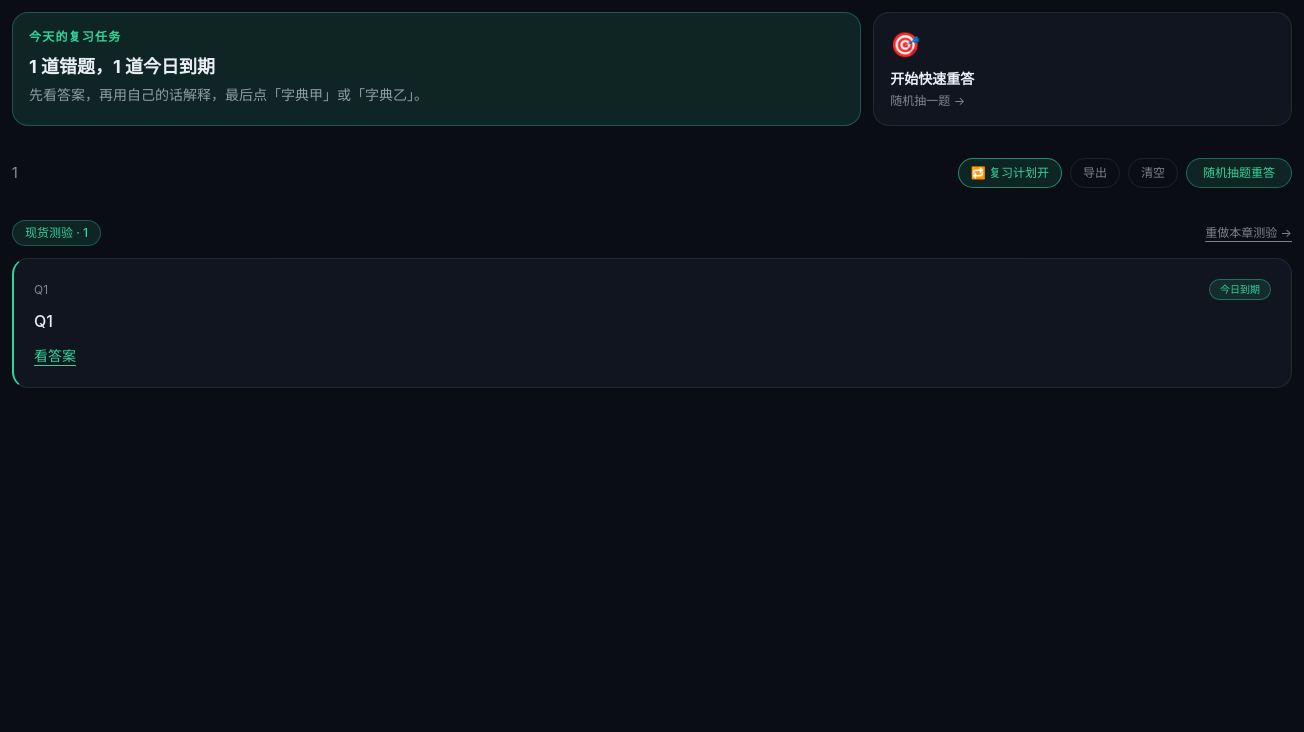
Scenario: ReviewClient 复习应答（R5.5/R5.8） › 两个按钮的字来自字典，不是组件里写死的
Click the button "看答案".
click(55, 356)  # box [34,346,76,366]
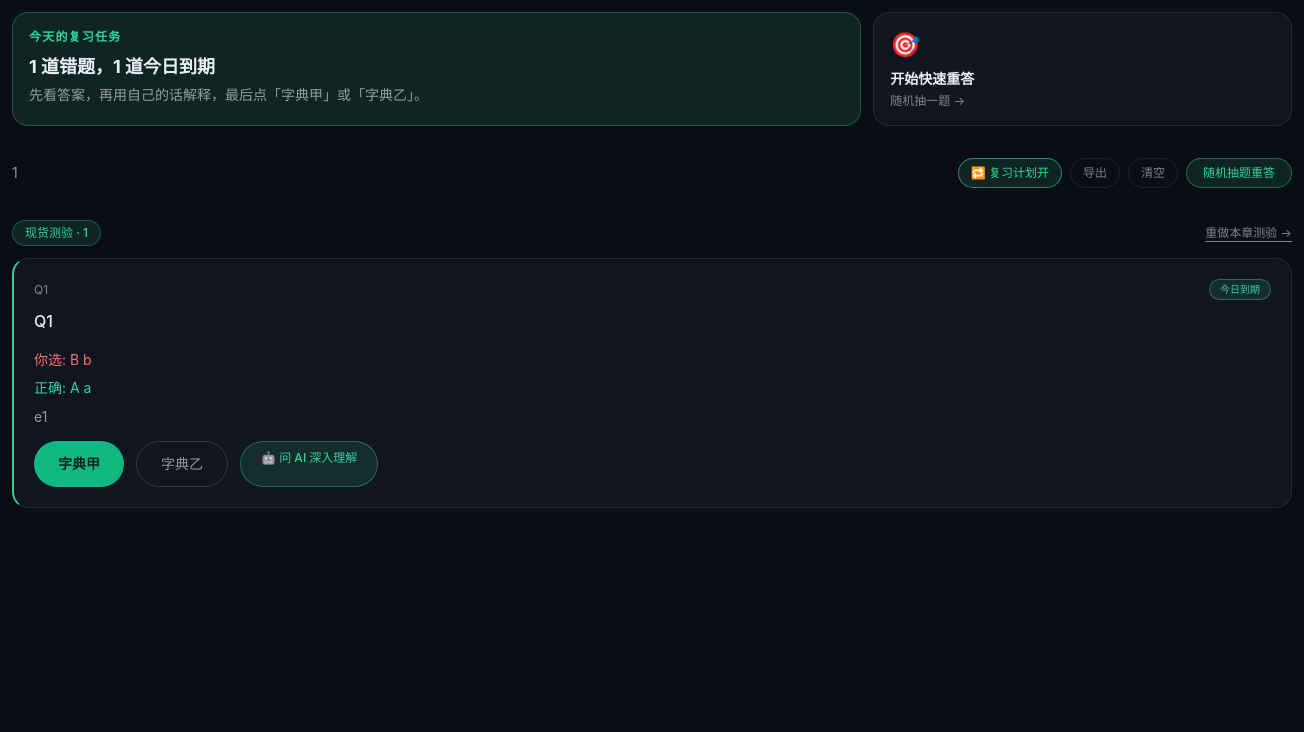
Expected: the button "字典甲" is shown, [34,441,124,487]
Expected: the button "字典乙" is shown, [136,441,228,487]
